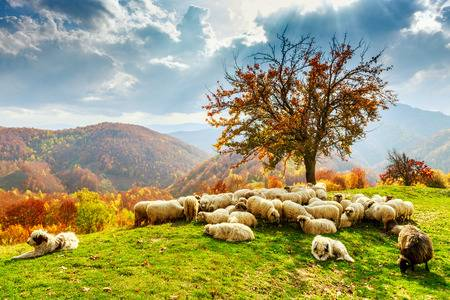sheep: (393, 223, 437, 277), (10, 225, 79, 255), (309, 233, 353, 267), (245, 196, 283, 227), (145, 200, 185, 229), (202, 222, 254, 244), (293, 212, 336, 236), (365, 199, 396, 226), (198, 191, 231, 210), (343, 201, 365, 226), (196, 208, 228, 225), (183, 194, 200, 225)
